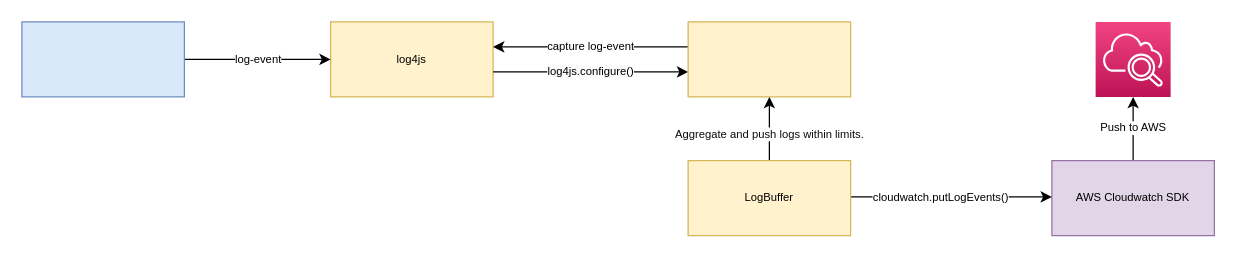
Some shapes in this 1236 by 258 pixel diagram are drawn without their labels. Here are the shapes that lost their labels. From the top down, the centre of each, then its label:
At pixel 102 59: "app".
At pixel 769 59: "log4js-appender-cloudwatch".
